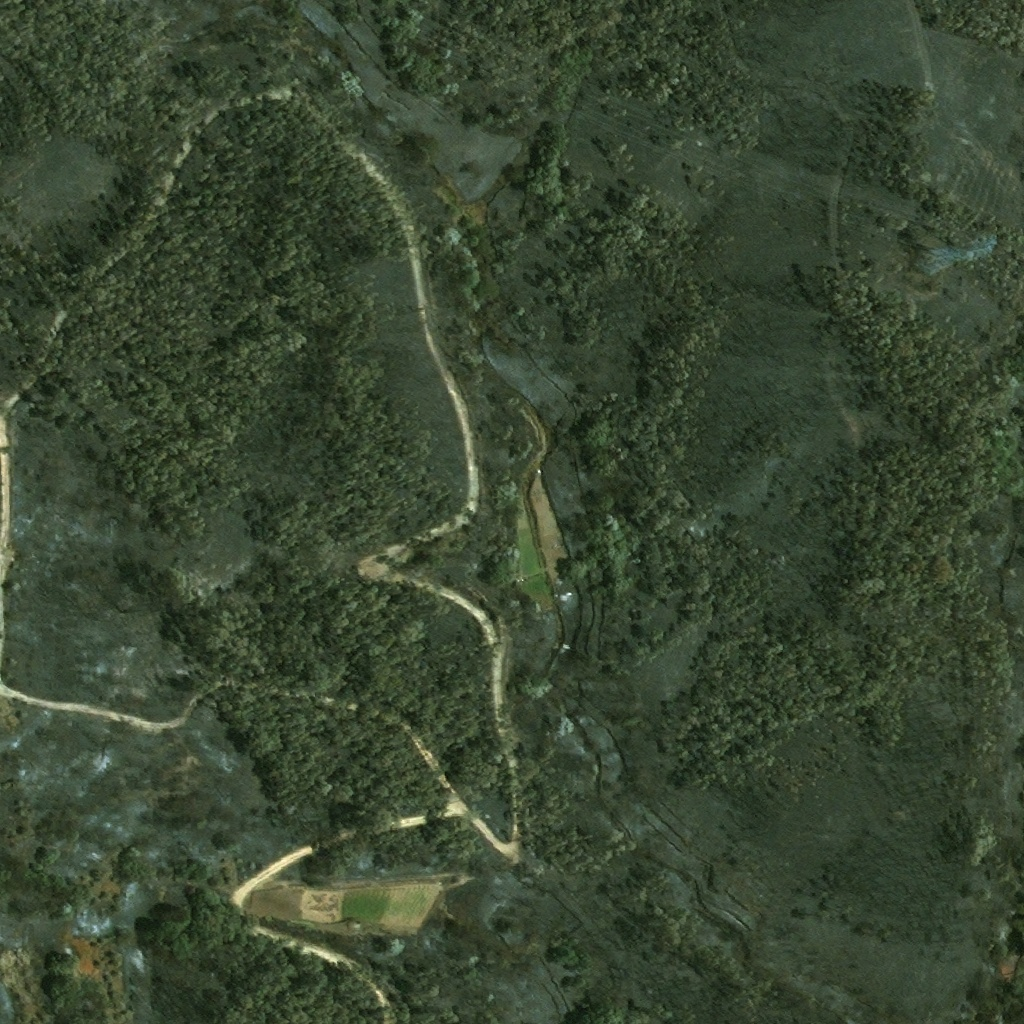0 no-damage: (556, 539, 565, 548)
4 un-classified: (446, 565, 470, 583), (5, 548, 18, 568)
